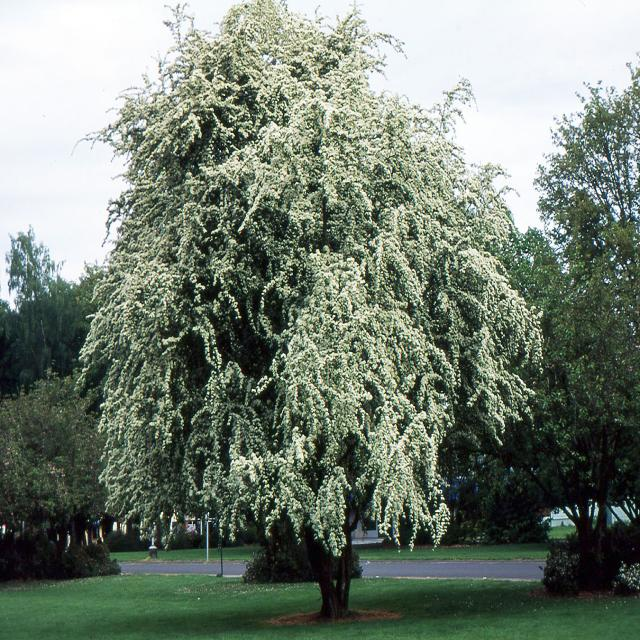Crataegus monogyna: (74, 1, 545, 612)
